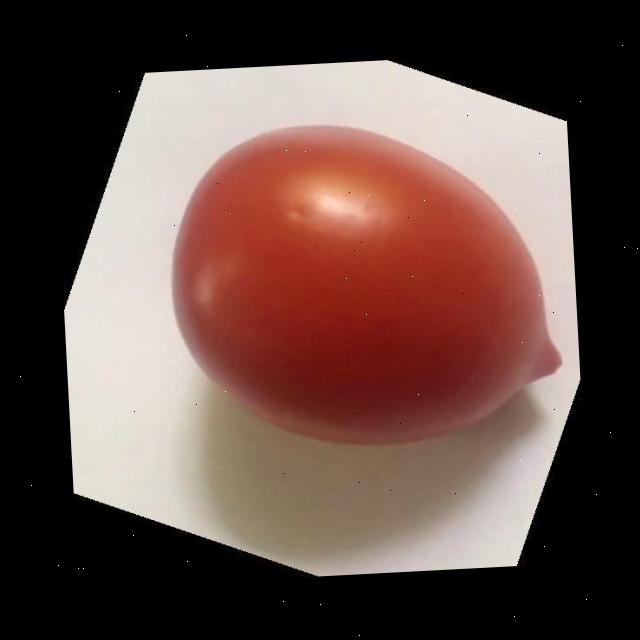tomato: (156, 100, 583, 468)
